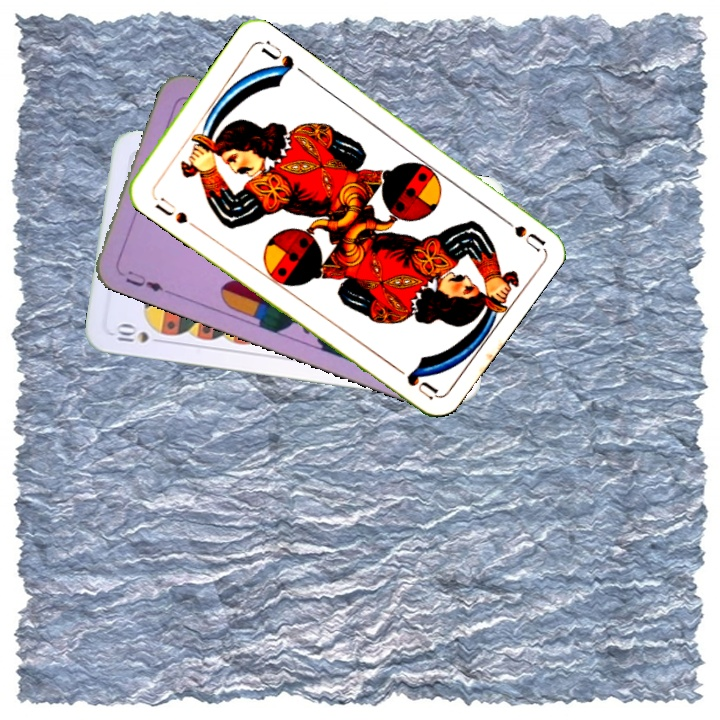EU: (121, 266, 172, 298)
S10: (109, 321, 152, 345)
SU: (492, 209, 546, 253), (148, 189, 198, 231)
